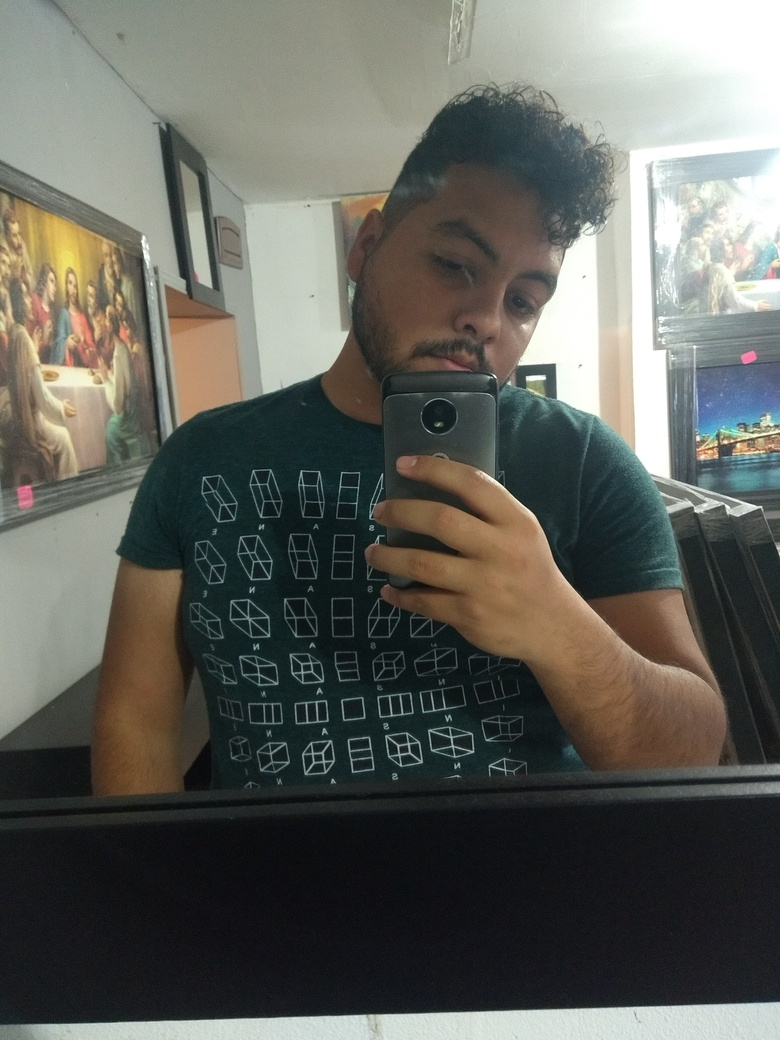Yoshi: (314, 52, 647, 503)
